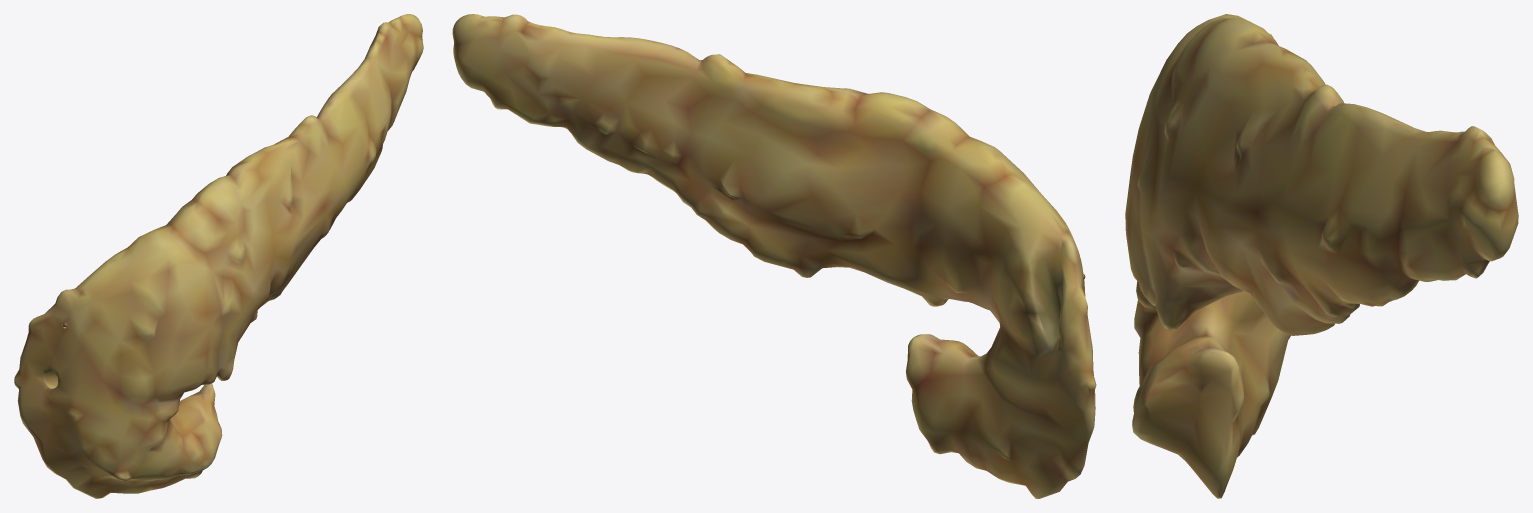
Rendered from pancreas_cancer.glb.
3 views of the same model, side by side, from view 1: azimuth 30°, elevation 25°; view 2: azimuth 150°, elevation 25°; view 3: azimuth 270°, elevation 25° (orthographic). The views are drawn at different scales.
Parts seen in each view (by area): view 1: Pancreas (Anterior Part) [S01922], Pancreas (Posterior Part) [S01925]; view 2: Pancreas (Posterior Part) [S01925], Pancreas (Anterior Part) [S01922]; view 3: Pancreas (Anterior Part) [S01922], Pancreas (Posterior Part) [S01925].
Part boxes in pixels (bbox=[...]): Pancreas (Anterior Part) [S01922]: bbox=[50, 14, 423, 481]; Pancreas (Posterior Part) [S01925]: bbox=[14, 15, 402, 498]; Pancreas (Posterior Part) [S01925]: bbox=[452, 14, 1096, 498]; Pancreas (Anterior Part) [S01922]: bbox=[495, 16, 1085, 356]; Pancreas (Anterior Part) [S01922]: bbox=[1125, 15, 1500, 454]; Pancreas (Posterior Part) [S01925]: bbox=[1178, 14, 1518, 498].
Bounding box in the file's own units: 4.08 × 2.93 × 1.71.
